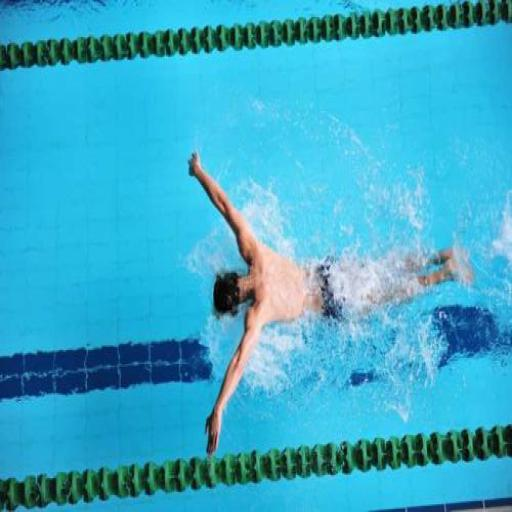swimming: (184, 148, 476, 458)
